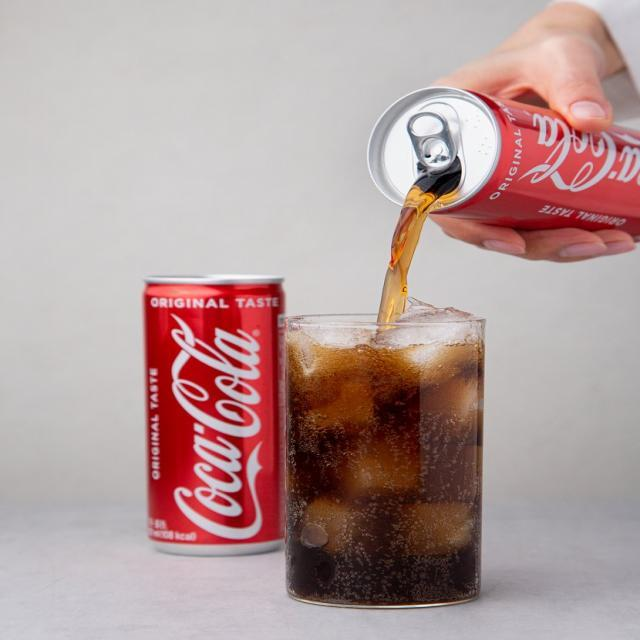coca-cola: (136, 268, 292, 564), (407, 80, 640, 255)
